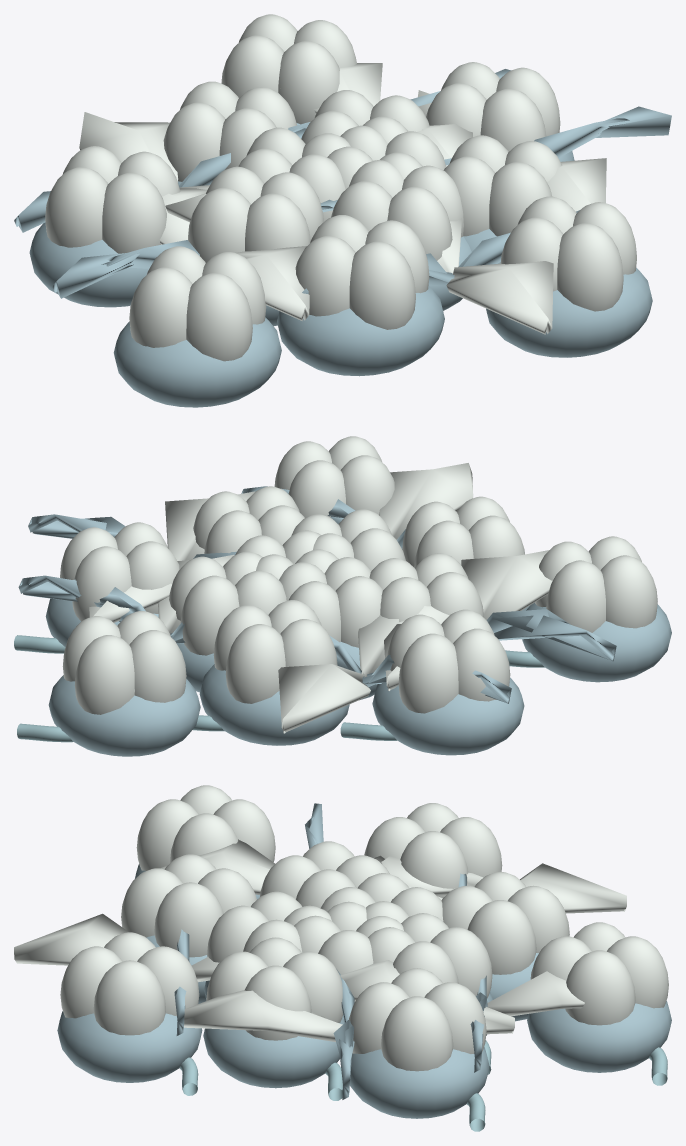
Rendered from bio_oxygen_reef_20_near.glb.
3 views of the same model, one above another, from view 1: azimuth 30°, elevation 25°; view 2: azimuth 150°, elevation 25°; view 3: azimuth 270°, elevation 25° (orthographic). The views are drawn at different scales.
Parts seen in each view (by area): view 1: Lobed gas sac.048, Lobed gas sac.028, Lobed gas sac.036, Lobed gas sac.040, Lobed gas sac.016, Lobed gas sac.044, Photosynthetic cushion.012, Photosynthetic cushion.007, Lobed gas sac.032, Lobed gas sac.020, Lobed gas sac.024, Lobed gas sac.008 (+15 smaller); view 2: Lobed gas sac.044, Lobed gas sac.036, Lobed gas sac.048, Lobed gas sac.024, Photosynthetic cushion.011, Lobed gas sac.032, Lobed gas sac.040, Lobed gas sac.012, Photosynthetic cushion.009, Lobed gas sac.028, Low buttress leaf.005, Lobed gas sac.004 (+21 smaller); view 3: Lobed gas sac.040, Lobed gas sac.032, Lobed gas sac.044, Lobed gas sac.028, Lobed gas sac.024, Lobed gas sac.048, Lobed gas sac.036, Lobed gas sac.020, Photosynthetic cushion.011, Photosynthetic cushion.008, Photosynthetic cushion.010, Lobed gas sac.012 (+19 smaller).
Part boxes in pixels (left/top/right/bottom): Lobed gas sac.048: left=129, top=246, right=266, bottom=361; Lobed gas sac.028: left=295, top=215, right=429, bottom=329; Lobed gas sac.036: left=45, top=146, right=180, bottom=253; Lobed gas sac.040: left=500, top=196, right=636, bottom=311; Lobed gas sac.016: left=188, top=166, right=324, bottom=262; Lobed gas sac.044: left=221, top=14, right=356, bottom=124; Photosynthetic cushion.012: left=113, top=317, right=281, bottom=407; Photosynthetic cushion.007: left=277, top=286, right=444, bottom=376; Lobed gas sac.032: left=426, top=62, right=560, bottom=151; Lobed gas sac.020: left=443, top=135, right=562, bottom=236; Lobed gas sac.024: left=163, top=81, right=296, bottom=181; Lobed gas sac.008: left=331, top=160, right=463, bottom=260; Lobed gas sac.044: left=62, top=611, right=186, bottom=714; Lobed gas sac.036: left=387, top=609, right=510, bottom=713; Lobed gas sac.048: left=535, top=536, right=657, bottom=632; Lobed gas sac.024: left=213, top=600, right=337, bottom=703; Photosynthetic cushion.011: left=48, top=675, right=200, bottom=756; Lobed gas sac.032: left=60, top=522, right=179, bottom=621; Lobed gas sac.040: left=274, top=436, right=394, bottom=517; Lobed gas sac.012: left=169, top=551, right=286, bottom=655; Photosynthetic cushion.009: left=372, top=677, right=524, bottom=755; Lobed gas sac.028: left=402, top=496, right=524, bottom=567; Low buttress leaf.005: left=278, top=606, right=449, bottom=733; Lobed gas sac.004: left=279, top=557, right=382, bottom=647; Lobed gas sac.040: left=60, top=932, right=199, bottom=1035; Lobed gas sac.032: left=349, top=968, right=486, bottom=1071; Lobed gas sac.044: left=530, top=922, right=668, bottom=1025; Lobed gas sac.028: left=121, top=854, right=256, bottom=957; Lobed gas sac.024: left=441, top=871, right=569, bottom=974; Lobed gas sac.048: left=136, top=785, right=275, bottom=870; Lobed gas sac.036: left=364, top=803, right=502, bottom=897; Lobed gas sac.020: left=206, top=937, right=342, bottom=1040; Photosynthetic cushion.011: left=527, top=1001, right=671, bottom=1072; Photosynthetic cushion.008: left=349, top=1047, right=489, bottom=1118; Photosynthetic cushion.010: left=57, top=1011, right=202, bottom=1082; Lobed gas sac.012: left=368, top=913, right=492, bottom=998.
Size of the model in its own units: 2.22 by 0.45 by 2.18.
